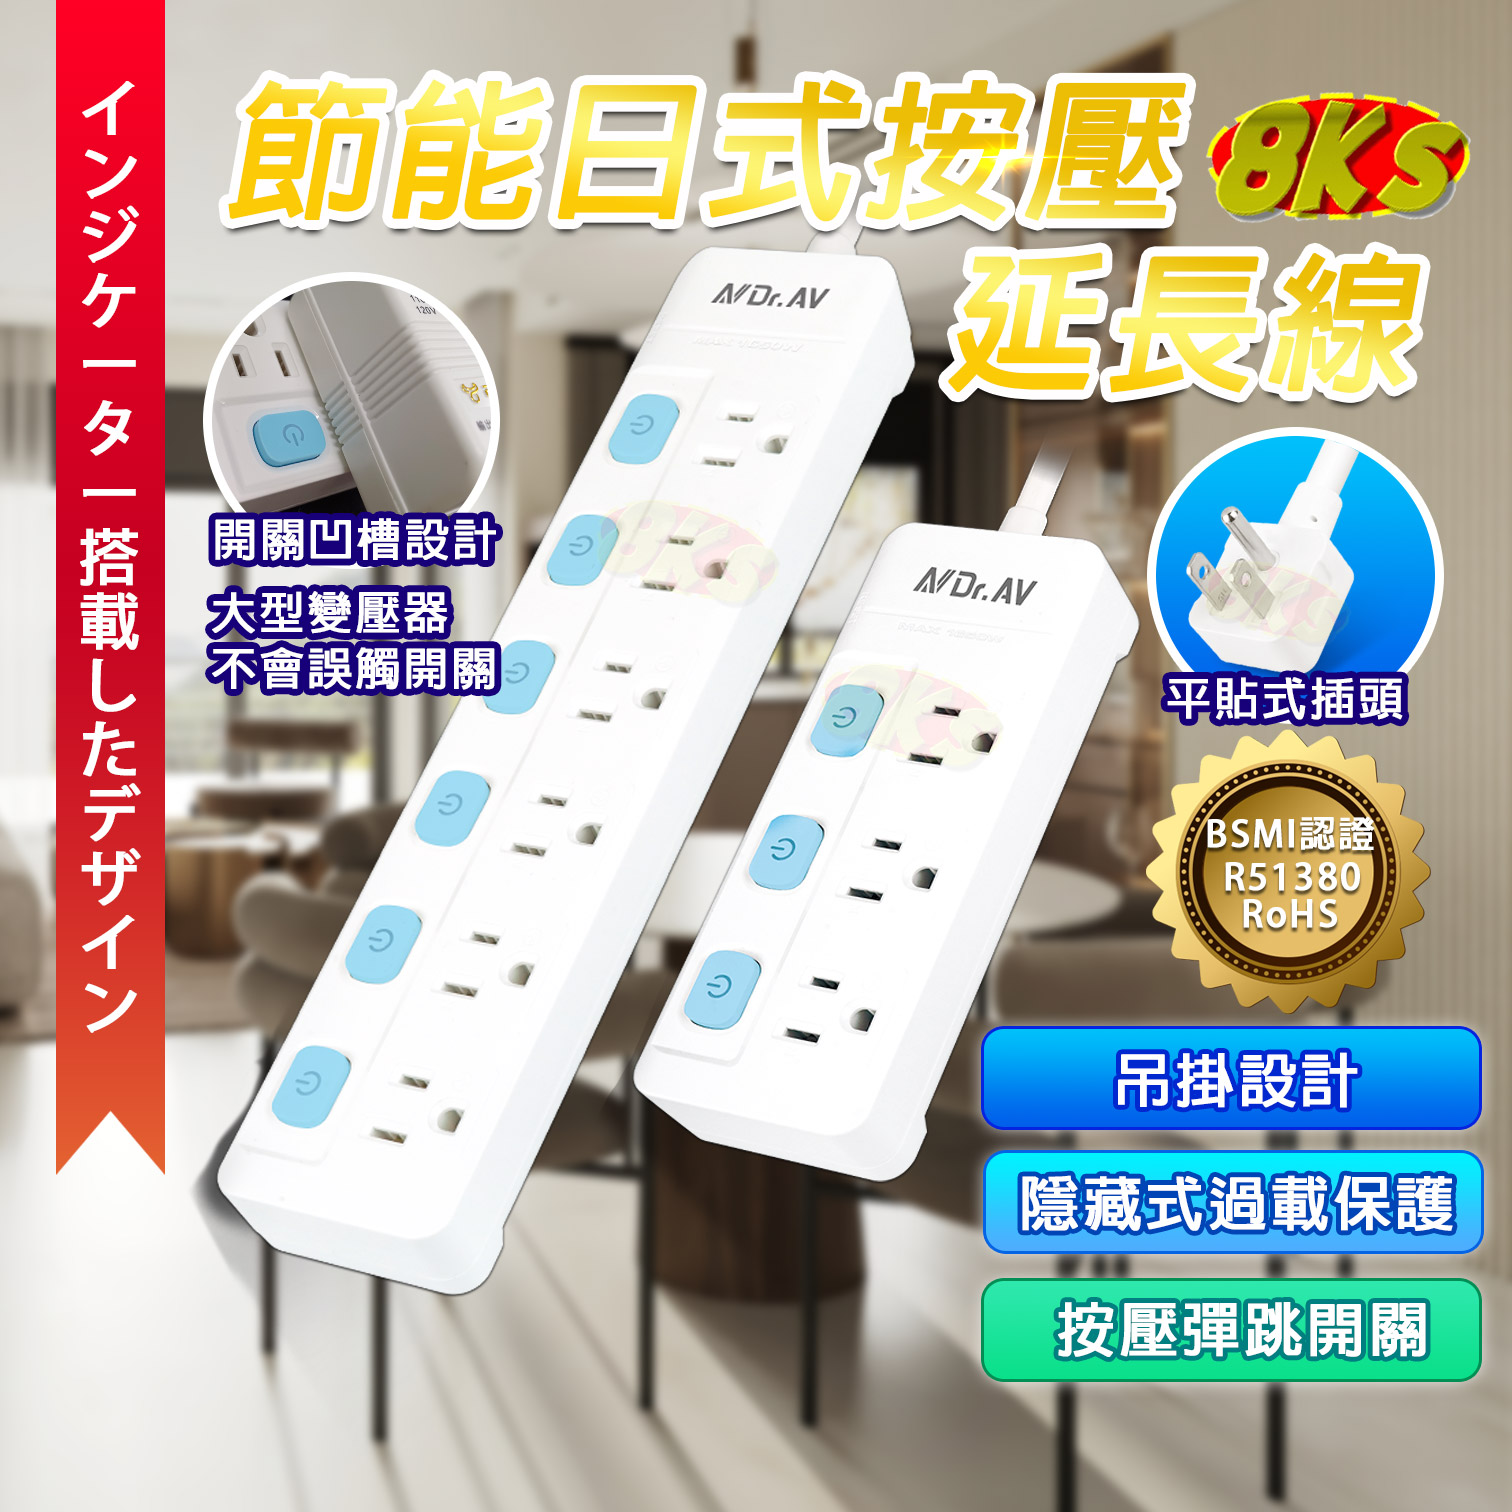socket: (217, 222, 917, 1302), (630, 486, 1138, 1180)
